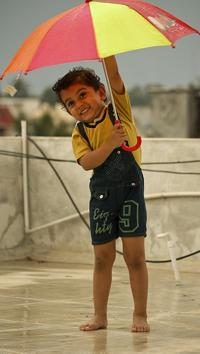person: (57, 54, 151, 334)
